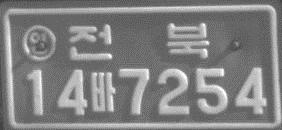1: (20, 68, 53, 116)
2: (157, 67, 189, 116)
4: (234, 67, 267, 114), (56, 68, 87, 115)
5: (194, 67, 228, 115)
7: (118, 67, 149, 114)
바: (88, 71, 116, 113)
영: (21, 24, 58, 61)
전북_D: (68, 22, 210, 61)
